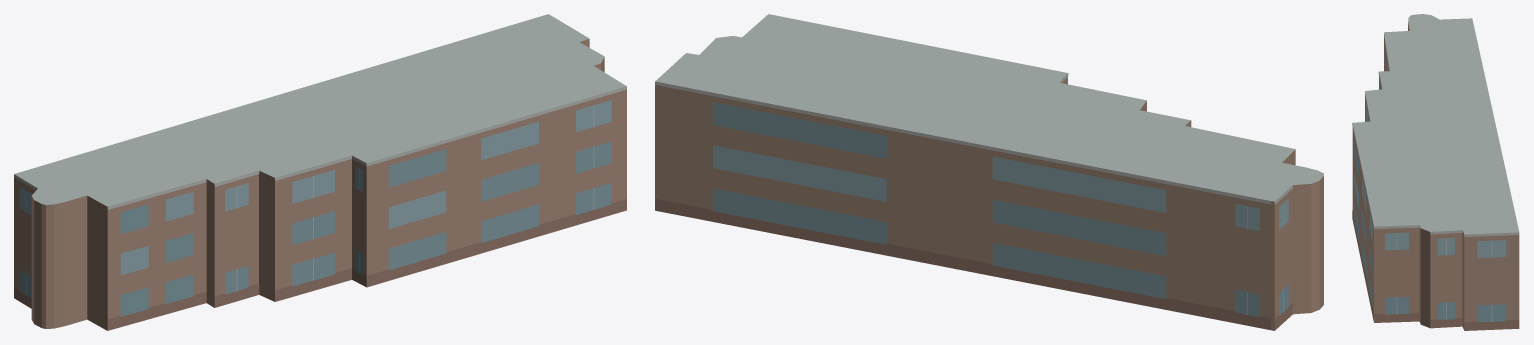
File: survey-upis-32569613.glb
3 views of the same model, side by side, from view 1: azimuth 30°, elevation 25°; view 2: azimuth 150°, elevation 25°; view 3: azimuth 270°, elevation 25° (orthographic). The views are drawn at different scales.
Visible parts, largest first — view 1: survey-upis-32569613.tmp; view 2: survey-upis-32569613.tmp; view 3: survey-upis-32569613.tmp.
Part boxes in pixels (bbox=[...]): survey-upis-32569613.tmp: bbox=[14, 14, 626, 330]; survey-upis-32569613.tmp: bbox=[655, 14, 1323, 330]; survey-upis-32569613.tmp: bbox=[1352, 14, 1519, 330].
Bounding box in the file's own units: 44.9 × 9.15 × 14.37.
